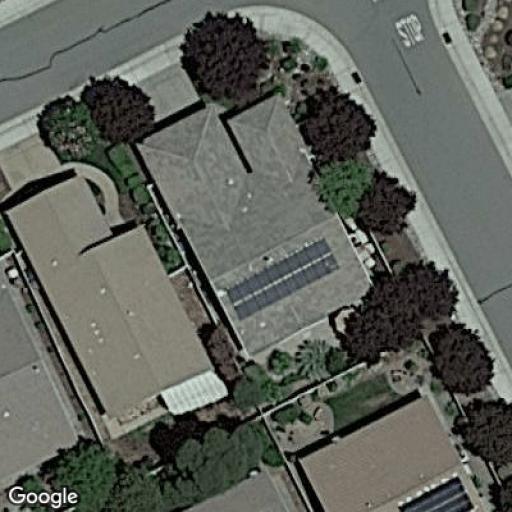solar-panel: (224, 240, 340, 319), (397, 475, 475, 512)
